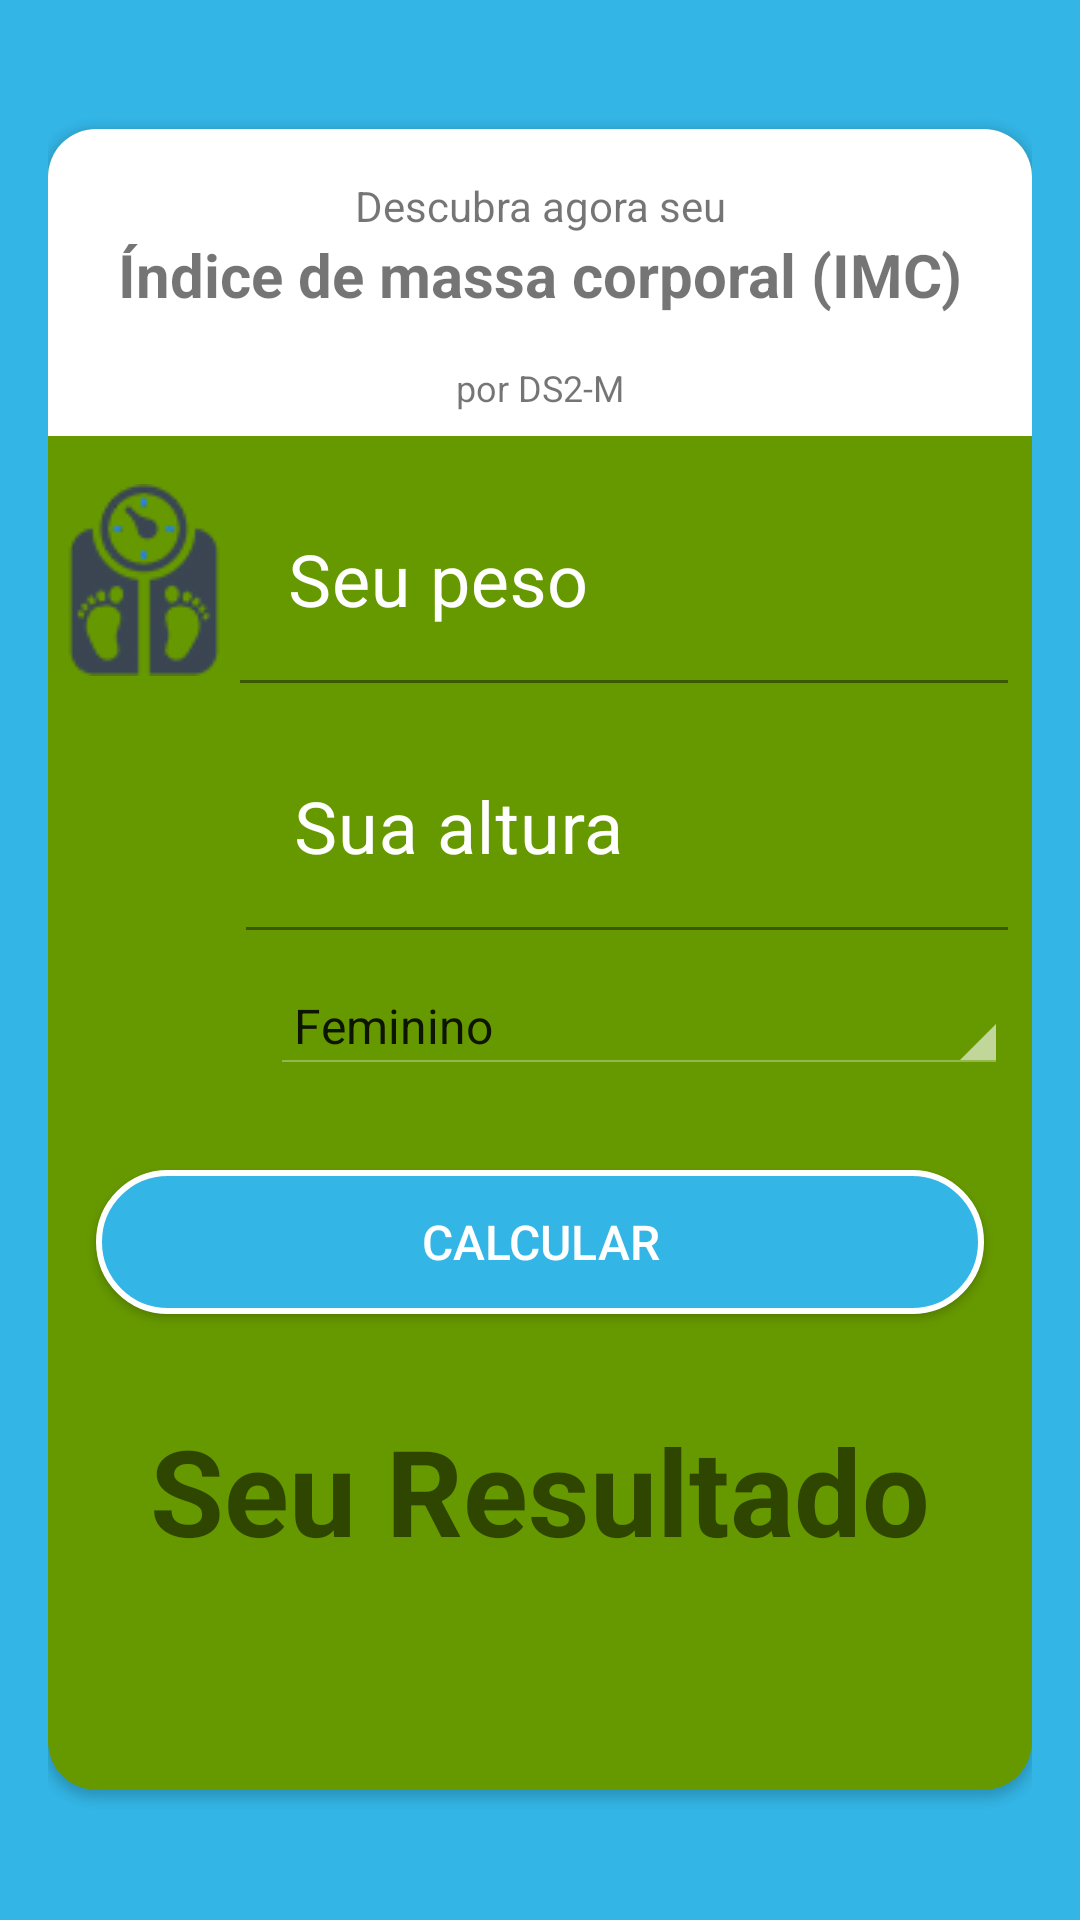

Icons on this 1080w x 1920h Android screen, each with its box as BBox(x1, y1, x2, y2):
iconebalanca: BBox(70, 484, 217, 676)
